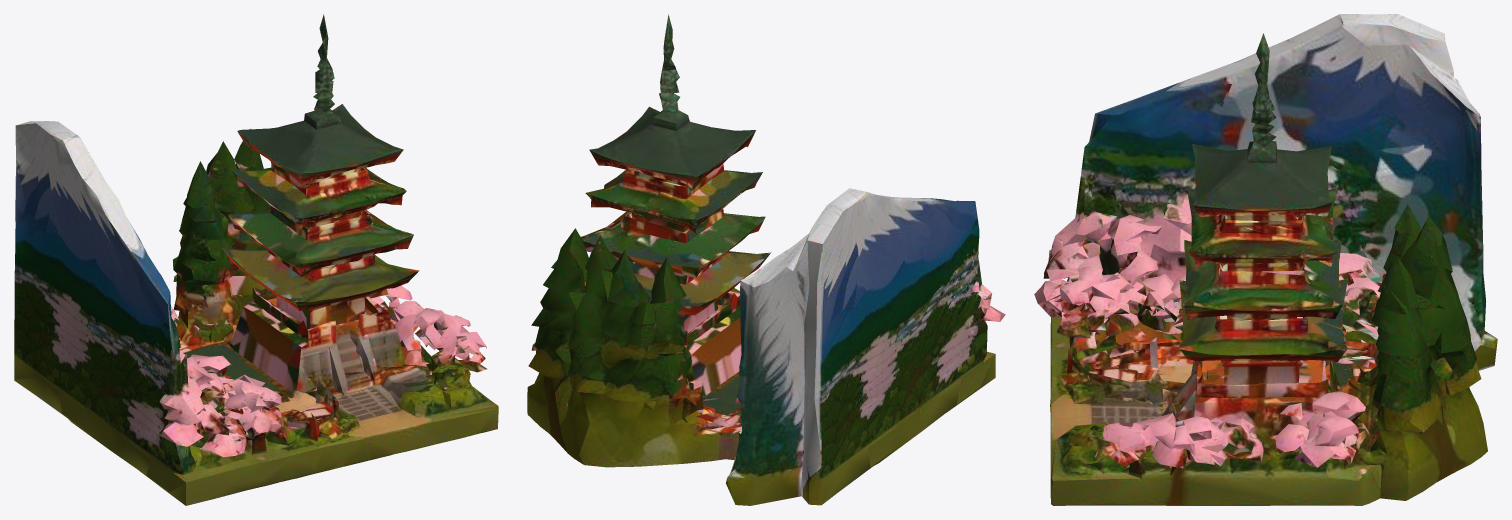
File: arakurayama-chureito.glb
3 renders of one model, left to right at view 1: azimuth 30°, elevation 25°; view 2: azimuth 150°, elevation 25°; view 3: azimuth 270°, elevation 25°, orthographic. The views are drawn at different scales.
Visible parts, largest first — view 1: logan-textured.obj; view 2: logan-textured.obj; view 3: logan-textured.obj.
Part boxes in pixels (x1,y1,x2,y2): logan-textured.obj: (14,14,498,505); logan-textured.obj: (527,14,1005,505); logan-textured.obj: (1034,14,1497,505).
Size of the model in its own units: 0.996 by 1 by 0.9849.
Materials: 1 (1 with a texture image).
